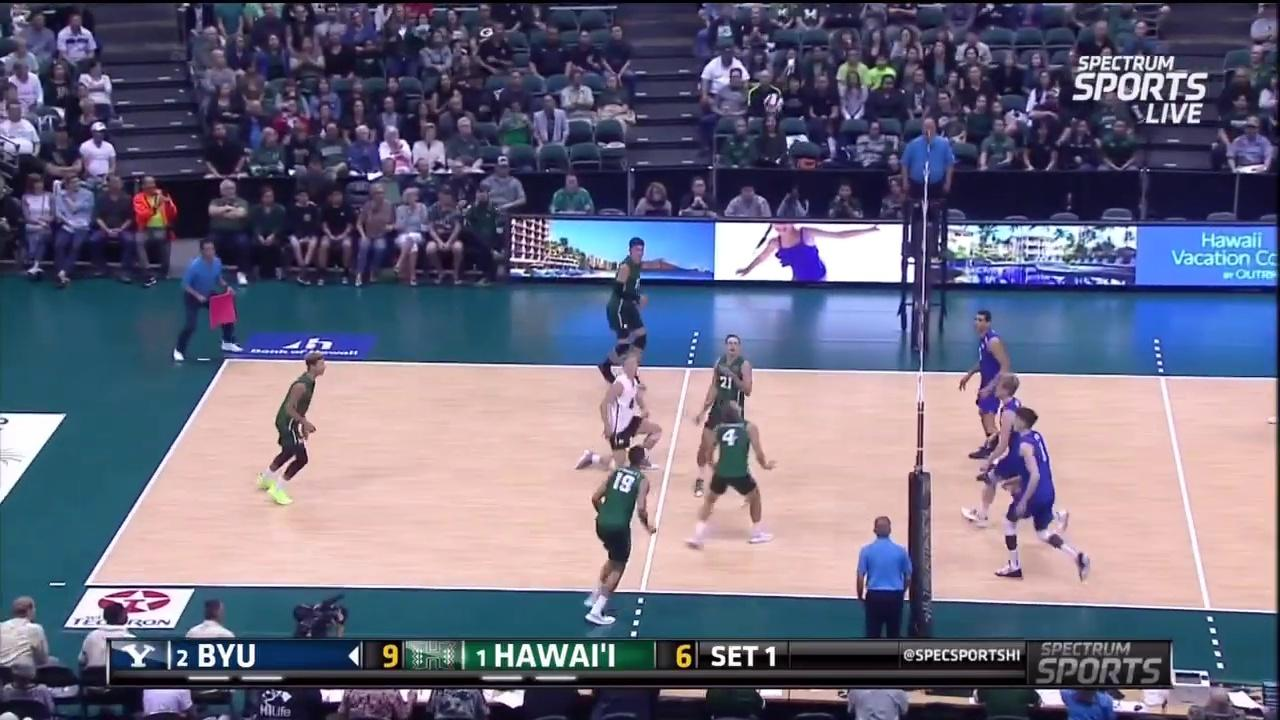player: (999, 411, 1088, 600), (968, 376, 1068, 530), (586, 435, 655, 629), (692, 401, 771, 553), (261, 351, 328, 502), (581, 359, 667, 474), (693, 333, 752, 495), (963, 309, 1016, 462), (601, 236, 651, 388)
refree: (896, 117, 959, 260), (172, 236, 242, 363), (854, 515, 914, 641)
